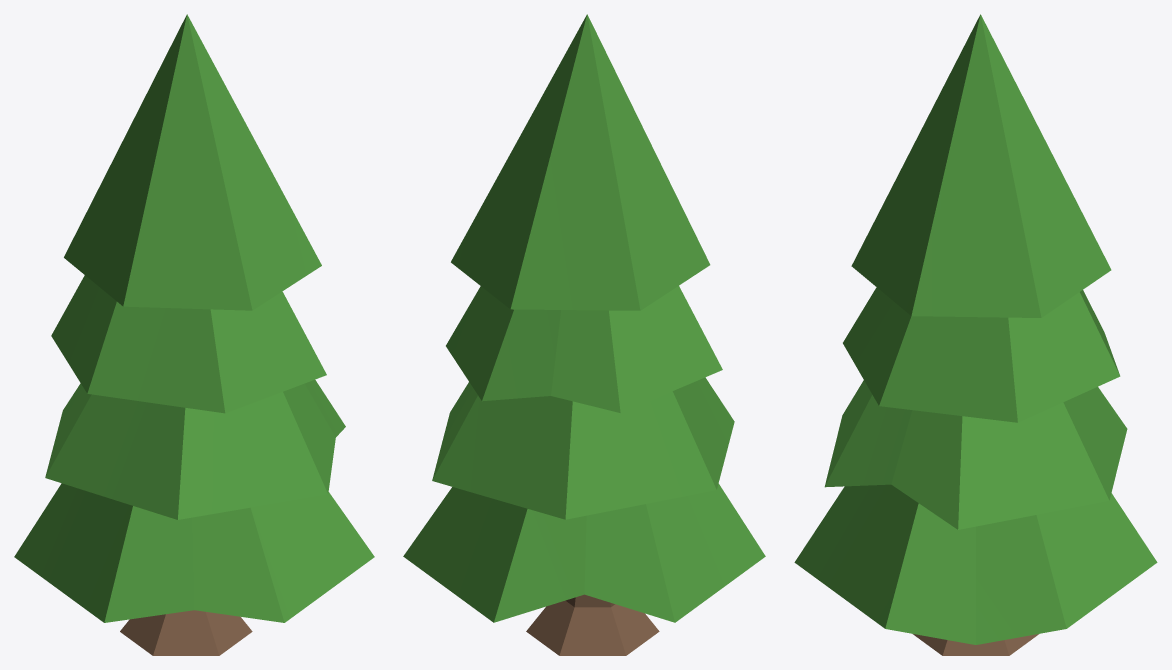
File: arbol.fbx
The picture shows the model from 3 angles, left to right: view 1: azimuth 30°, elevation 25°; view 2: azimuth 150°, elevation 25°; view 3: azimuth 270°, elevation 25°; orthographic projection.
Visible parts, largest first — view 1: Tree 3; view 2: Tree 3; view 3: Tree 3.
Part boxes in pixels (x1=…): Tree 3: x1=14, y1=14, x2=374, y2=655; Tree 3: x1=403, y1=14, x2=765, y2=655; Tree 3: x1=794, y1=14, x2=1157, y2=655.
Size of the model in its own units: 215 by 446 by 237.
